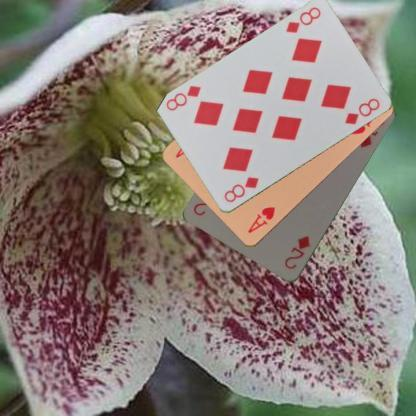2d: (281, 233, 312, 271)
8d: (283, 5, 322, 36), (221, 174, 260, 204)
Ah: (245, 204, 277, 235)
